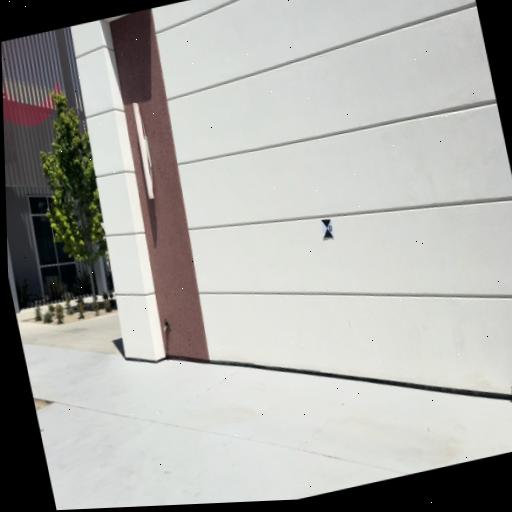target0: (319, 218, 333, 238)
